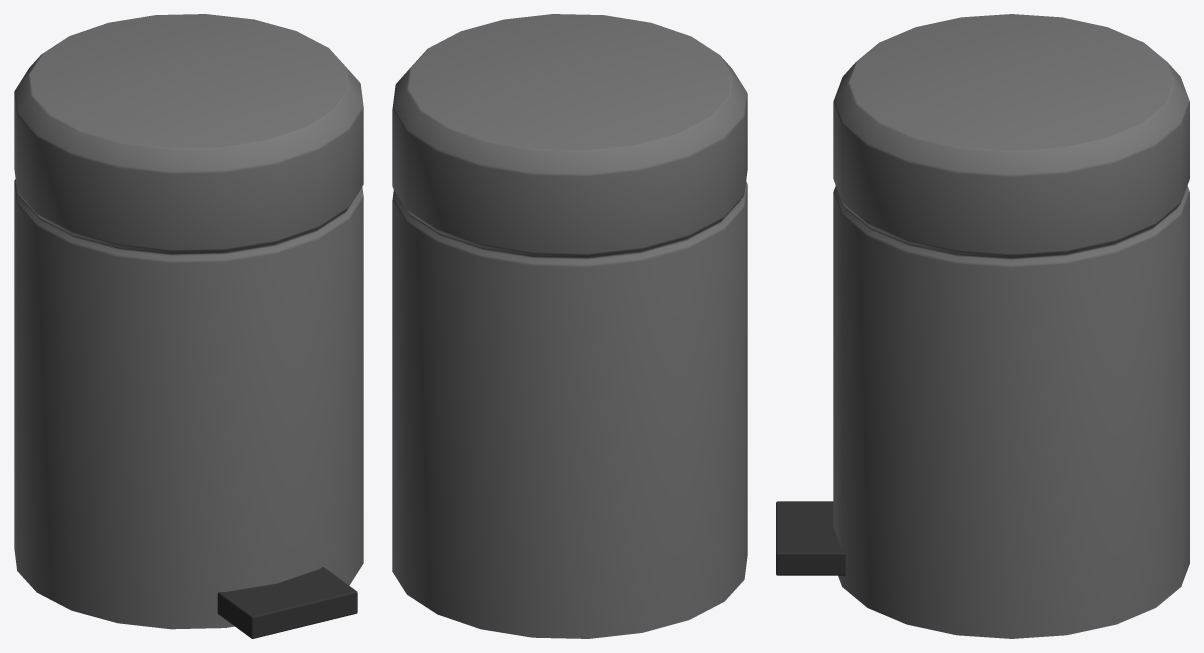
Rendered from SM_Bin.fbx.
The picture shows the model from 3 angles, left to right: view 1: azimuth 30°, elevation 25°; view 2: azimuth 150°, elevation 25°; view 3: azimuth 270°, elevation 25°; orthographic projection.
Parts seen in each view (by area): view 1: Bin; view 2: Bin; view 3: Bin.
Boxes of the visible parts, x1=… form: Bin: x1=14, y1=14, x2=363, y2=638; Bin: x1=392, y1=14, x2=747, y2=638; Bin: x1=776, y1=14, x2=1189, y2=638.
Size of the model in its own units: 23.92 by 35.62 by 27.77.
